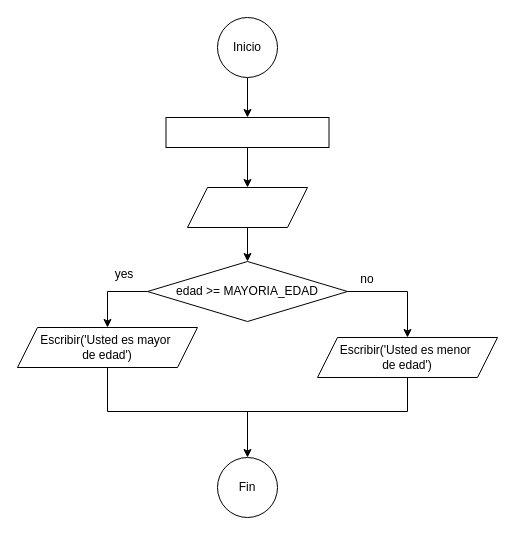
Some shapes in this 515 by 535 pixel diagram are drawn without their labels. The shapes that lost their labels are listed below. From the top down, each one's centre as x and y in pixels, then its label:
At (247,132): "MAYORIA_EDAD = 18".
At (247,207): "Leer(edad)".
